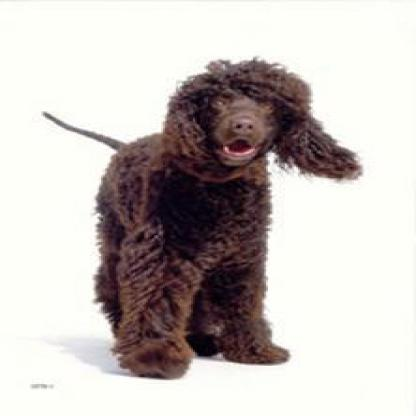Irish_water_spaniel: (34, 39, 365, 383)
